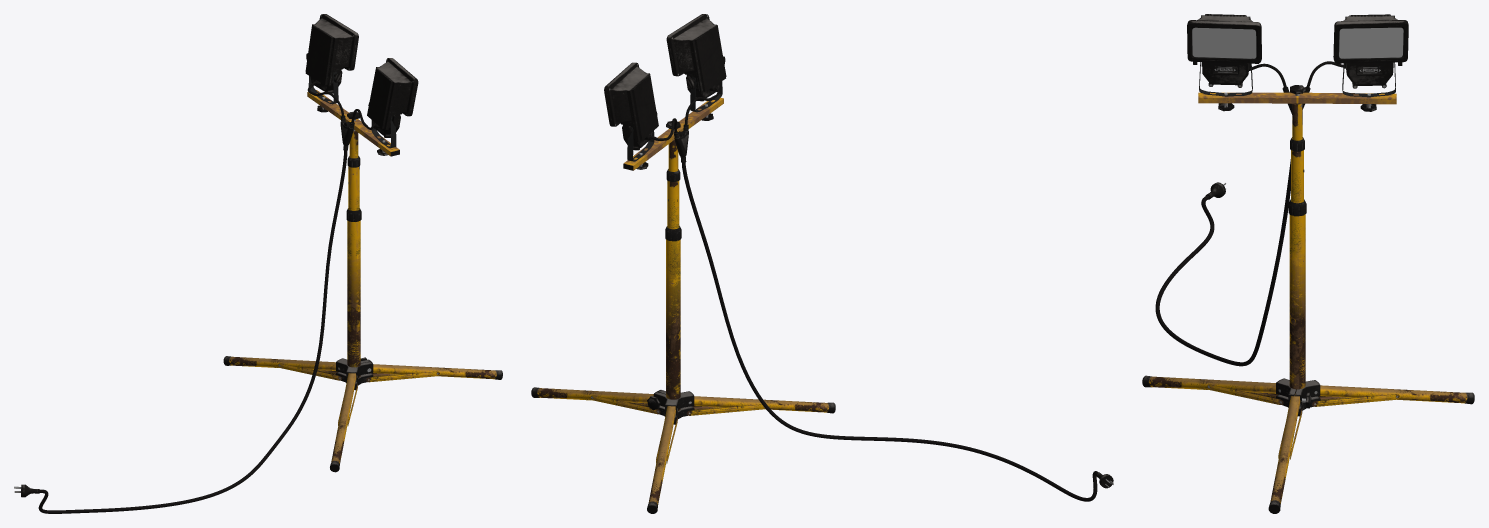
File: SM_CampWorkLight.fbx
3 renders of one model, left to right at view 1: azimuth 30°, elevation 25°; view 2: azimuth 150°, elevation 25°; view 3: azimuth 270°, elevation 25°, orthographic. The views are drawn at different scales.
Visible parts, largest first — view 1: SM_CampWorkLight; view 2: SM_CampWorkLight; view 3: SM_CampWorkLight.
Part boxes in pixels (box(x1,y1,x2,y2)): SM_CampWorkLight: box(14, 14, 502, 513); SM_CampWorkLight: box(531, 14, 1113, 513); SM_CampWorkLight: box(1142, 14, 1474, 513).
Size of the model in its own units: 142 by 300 by 200.
2 materials, 2 textured.
